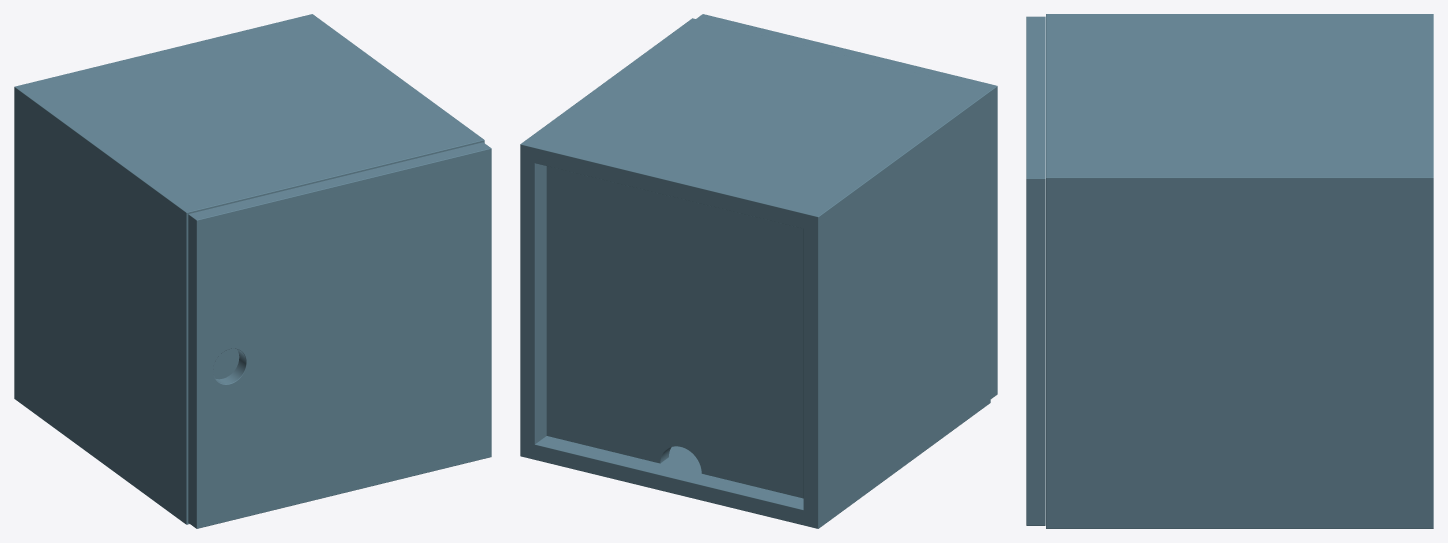
Rendered from MOD-1X1-D-B-IZQ-AP-AC.glb.
3 renders of one model, left to right at view 1: azimuth 30°, elevation 25°; view 2: azimuth 150°, elevation 25°; view 3: azimuth 270°, elevation 25°, orthographic. The views are drawn at different scales.
Size of the model in its own units: 360 by 360 by 378.
